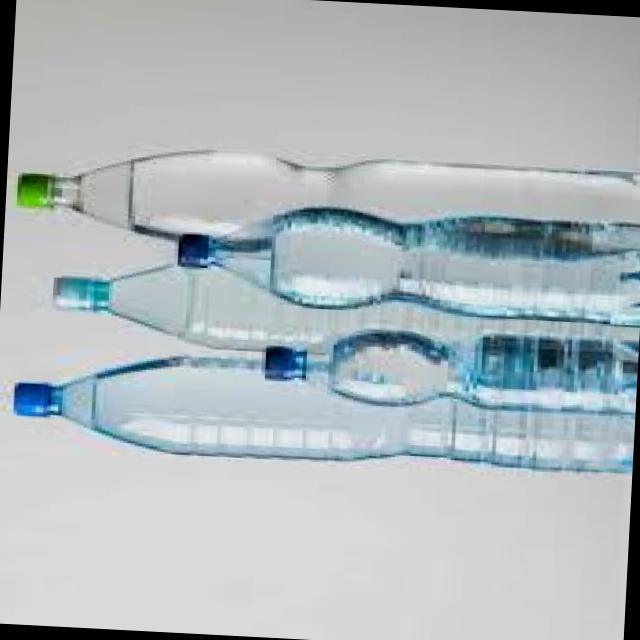bottle: (14, 356, 634, 472), (178, 207, 639, 324), (18, 150, 639, 236), (54, 266, 636, 349), (265, 329, 638, 414)
plastic: (14, 382, 51, 416), (18, 172, 51, 207)
